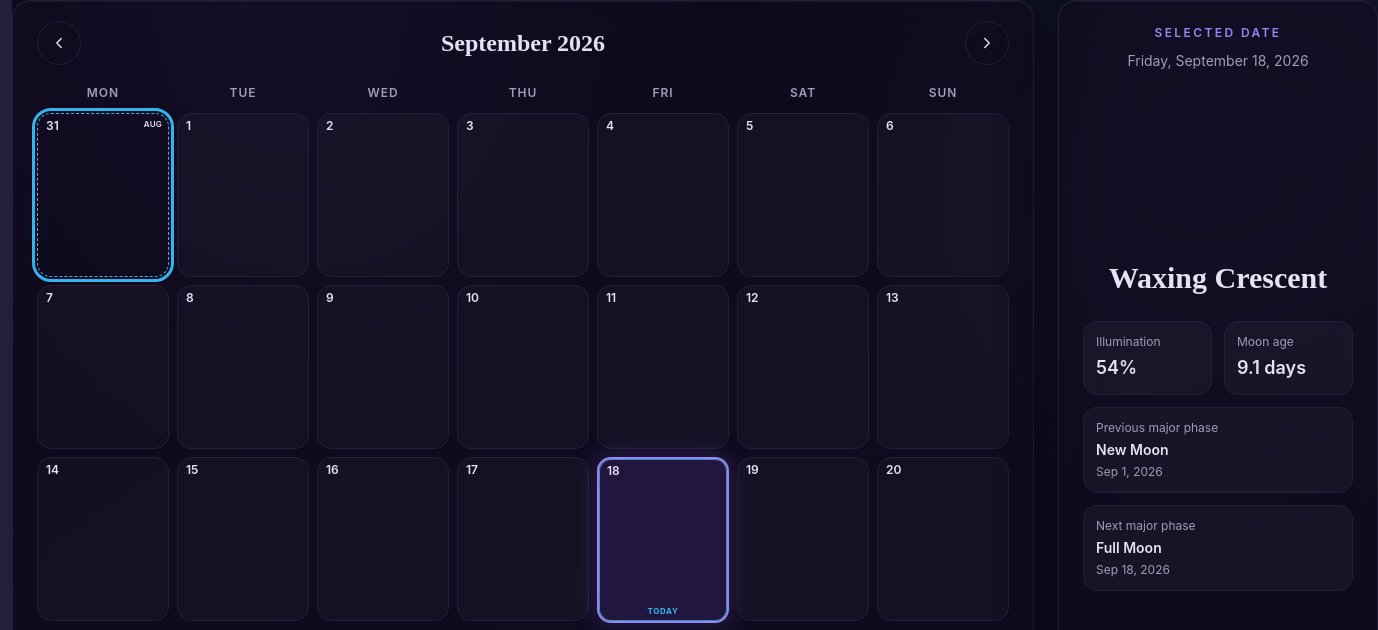
Test case: month navigation and selection › activates an adjacent-month date, changes the displayed month and restores button focus
The width and height of the screenshot is (1378, 630).
Click the button "31 Aug" at (103, 195), box [37,113,169,277]
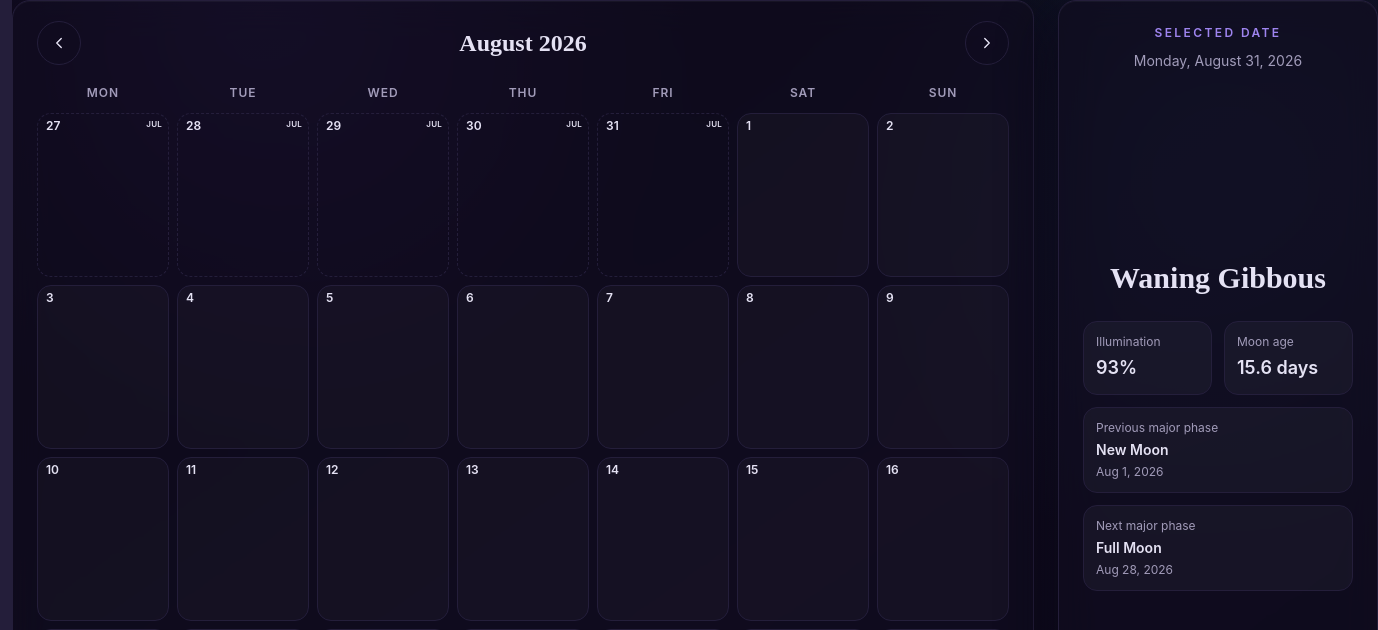
Check: the text "Monday, August 31, 2026" is shown, box [1134,49,1302,73]
Check: the heading "August 2026" is shown, box [459,28,587,58]
